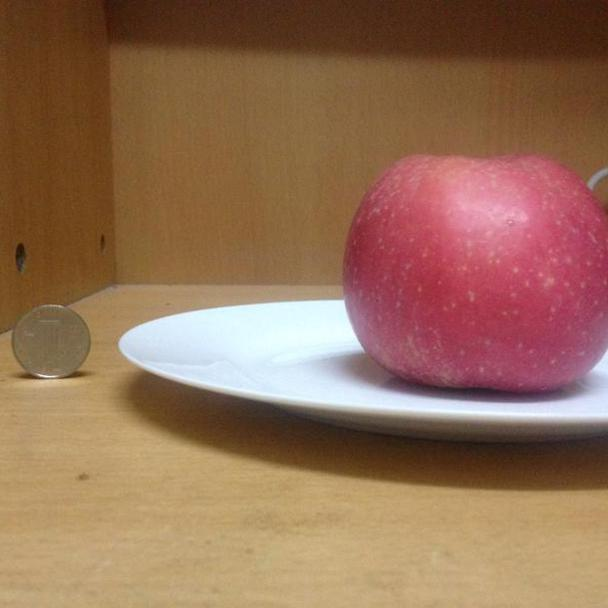apple: (342, 152, 608, 395)
